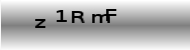1: (55, 9, 67, 22)
F: (105, 8, 117, 23)
R: (71, 10, 84, 23)
m: (91, 13, 110, 24)
z: (33, 17, 47, 28)
